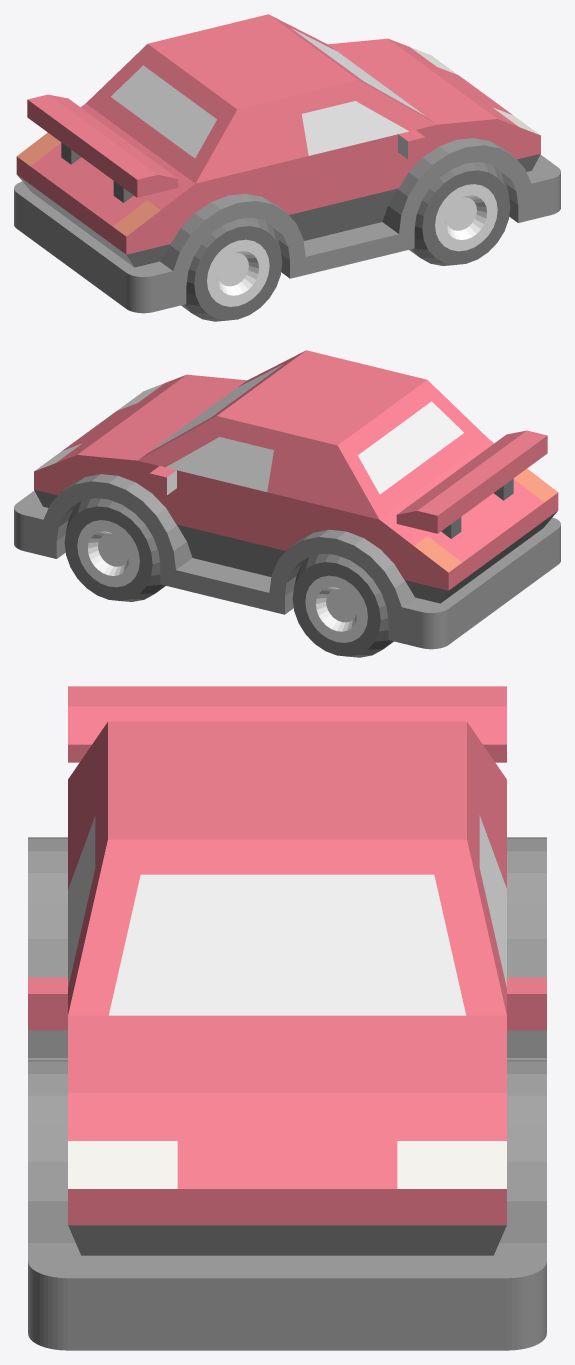
The model's file is SedanSport.dae.
3 renders of one model, top to bottom at view 1: azimuth 30°, elevation 25°; view 2: azimuth 150°, elevation 25°; view 3: azimuth 270°, elevation 25°, orthographic. The views are drawn at different scales.
Visible parts, largest first — view 1: body, wheel_backLeft, wheel_frontLeft, spoiler; view 2: body, wheel_backRight, wheel_frontRight, spoiler; view 3: body, spoiler.
Boxes of the visible parts, x1,y1,x2,y2 form: body: (14, 14, 560, 313); wheel_backLeft: (181, 217, 282, 321); wheel_frontLeft: (409, 162, 510, 265); spoiler: (27, 94, 178, 202); body: (14, 350, 560, 649); wheel_backRight: (292, 553, 393, 657); wheel_frontRight: (64, 498, 165, 601); spoiler: (396, 430, 547, 538); body: (28, 721, 546, 1350); spoiler: (68, 686, 506, 762).
Size of the model in its own units: 1.88 by 0.975 by 0.825.
